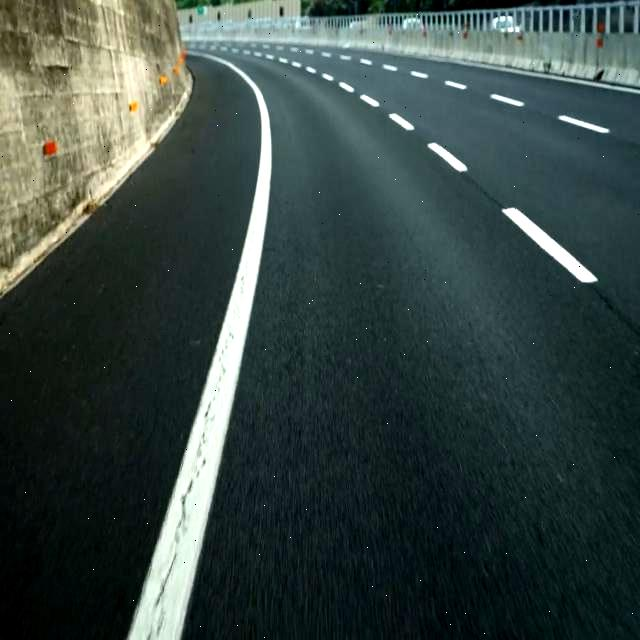lane: (128, 54, 272, 639), (502, 209, 598, 283), (428, 144, 468, 172), (389, 114, 414, 129)
road: (183, 50, 640, 639), (1, 57, 260, 639)
